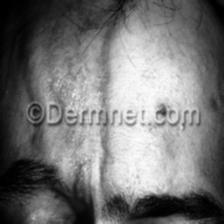Unclassified: (38, 50, 188, 104), (142, 128, 192, 167), (208, 92, 224, 116)
